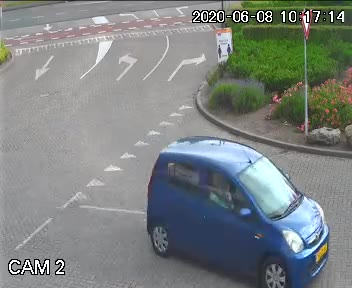car: (133, 125, 352, 288)
